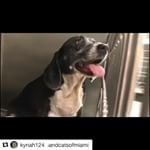puppy: (40, 34, 111, 115)
